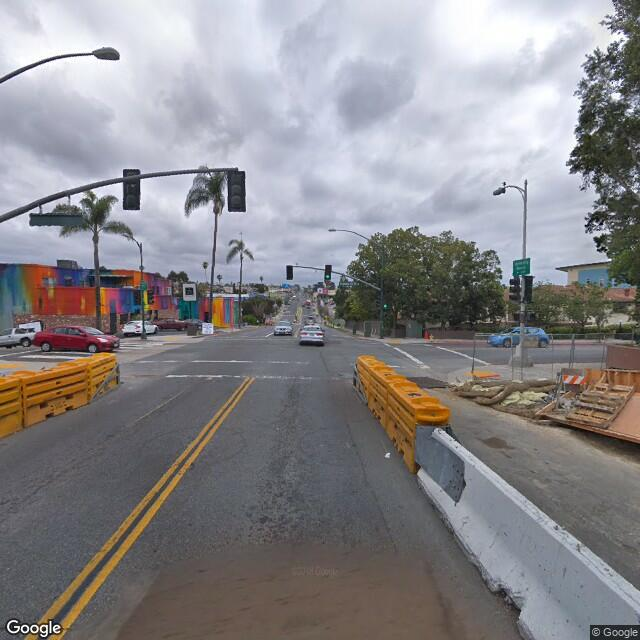light: (90, 49, 120, 60)
road line: (48, 514, 157, 618), (177, 376, 255, 473)
